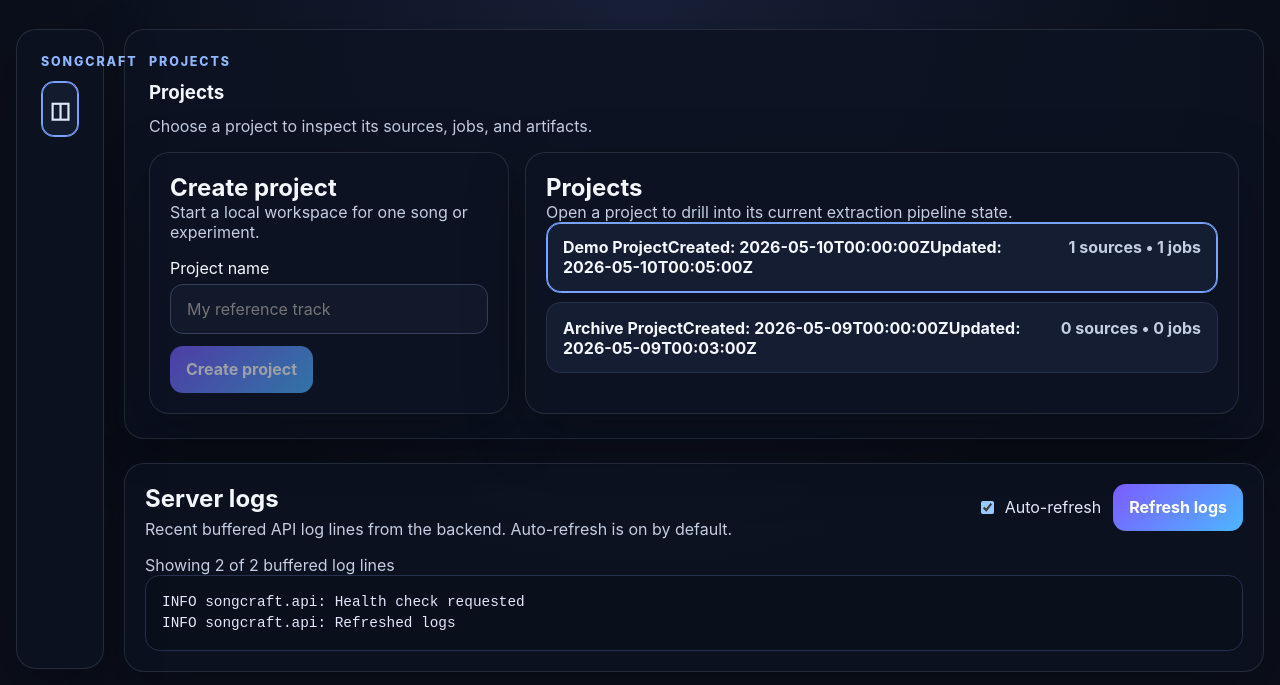
it: App › renders source status badges, linked job summaries, and ingest sync guidance
This screenshot has width=1280, height=685.
Click the button with aria-label "Open project Demo Project" at x=882, y=257, box [546,222,1218,293]
(page scrolled)
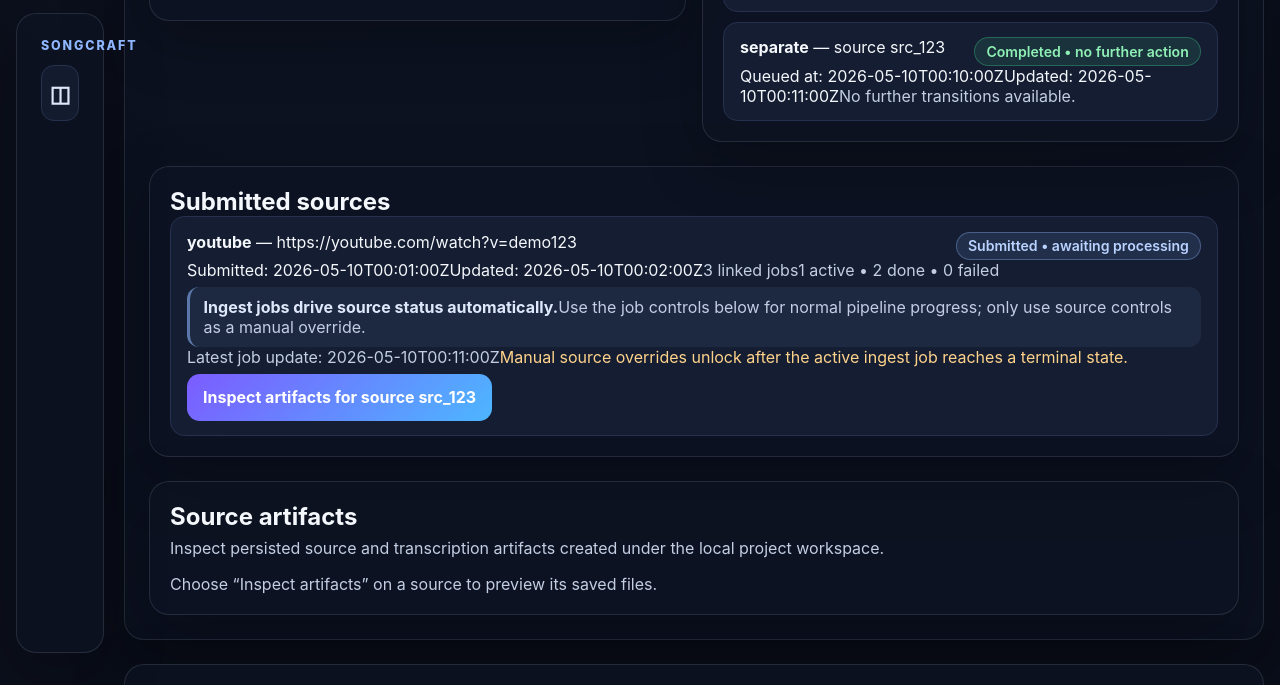
Now the text "Submitted • awaiting processing" is shown, box [956,232,1201,260]
Now the text "3 linked jobs" is shown, box [703,260,798,280]
Now the text "1 active • 2 done • 0 failed" is shown, box [798,260,999,280]
